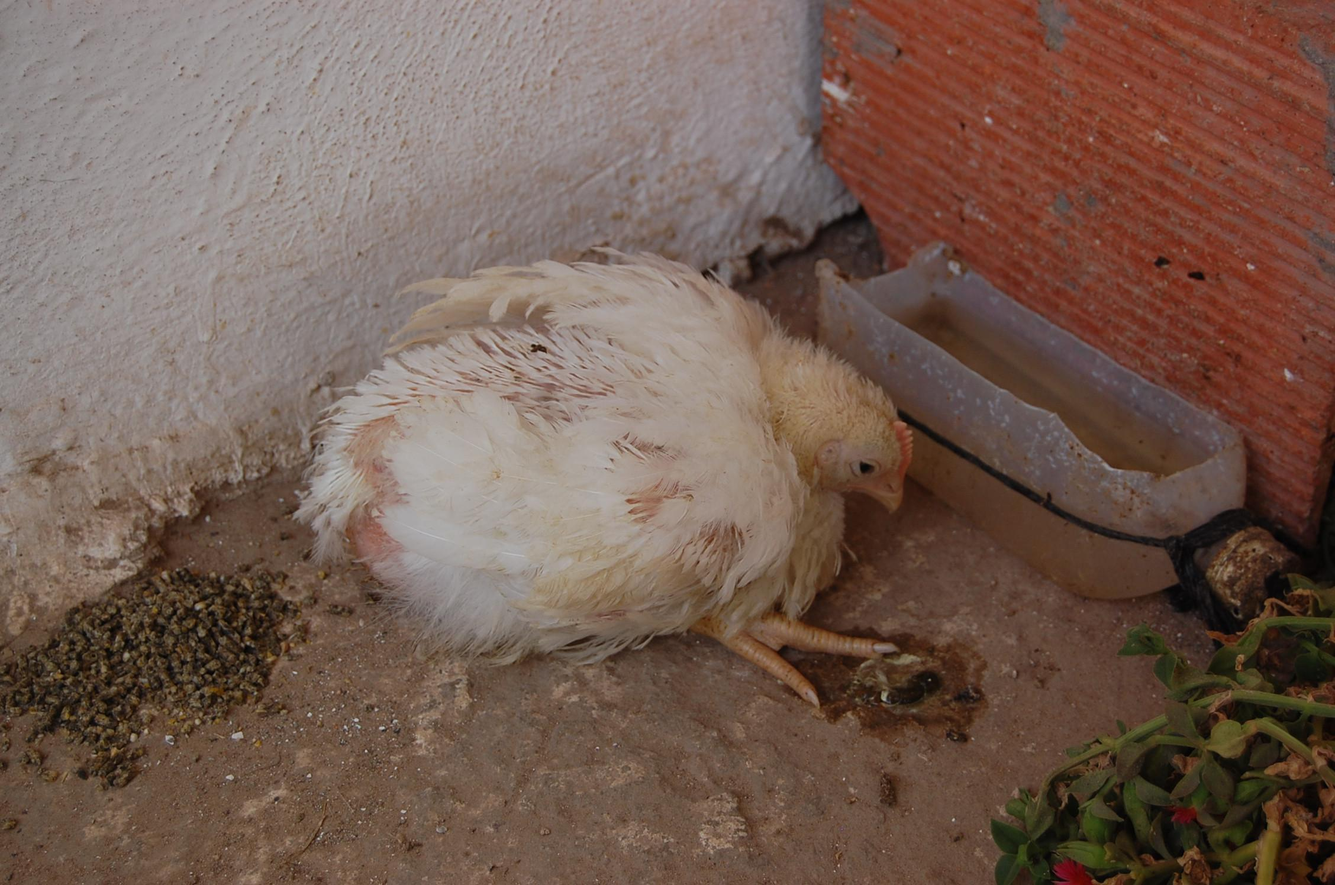AbNormal: (299, 243, 914, 717)
